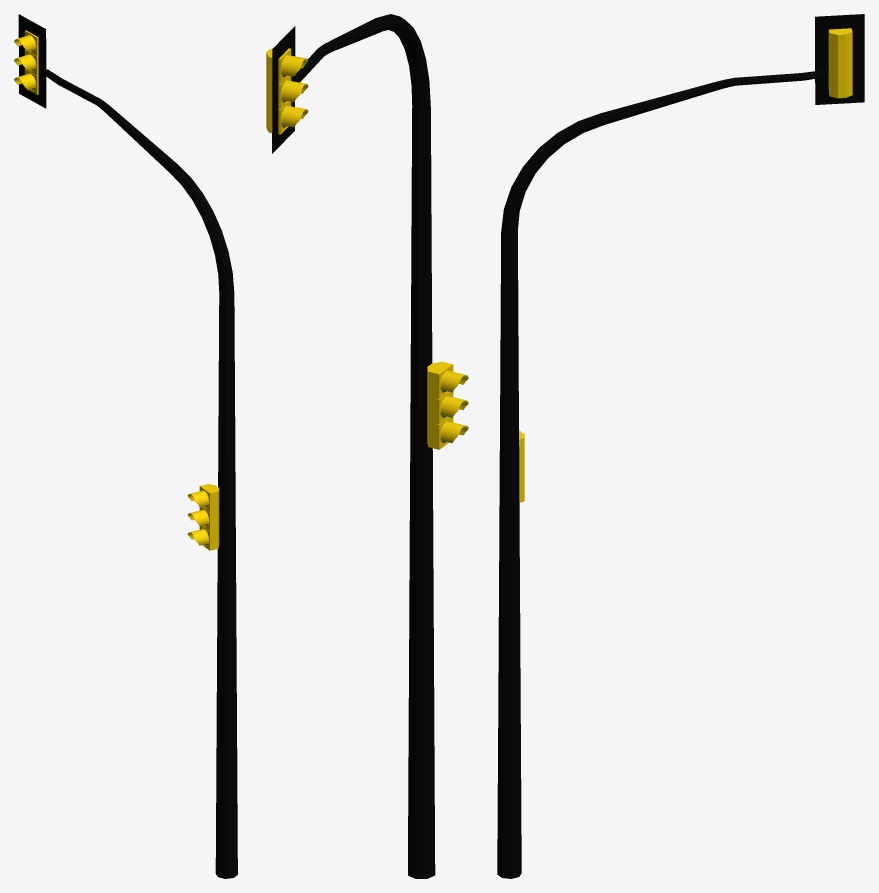
Rendered from w_highway_traffic_signals.gltf.
3 renders of one model, left to right at view 1: azimuth 30°, elevation 25°; view 2: azimuth 150°, elevation 25°; view 3: azimuth 270°, elevation 25°, orthographic. The views are drawn at different scales.
Visible parts, largest first — view 1: Pole, semafor, Plane, semafor.001; view 2: Pole, semafor, semafor.001, Plane; view 3: Pole, Plane, semafor.001.
Part boxes in pixels (<box>): Pole: <box>46,69,237,878</box>; semafor: <box>187,484,219,550</box>; Plane: <box>18,14,46,108</box>; semafor.001: <box>14,30,38,94</box>; Pole: <box>295,14,435,878</box>; semafor: <box>427,361,468,449</box>; semafor.001: <box>266,48,308,134</box>; Plane: <box>272,26,295,153</box>; Pole: <box>497,70,827,878</box>; Plane: <box>815,14,864,104</box>; semafor.001: <box>828,28,852,98</box>.
Bounding box in the file's own units: 0.9301 × 9.56 × 3.82.
10 materials, 6 textured.
